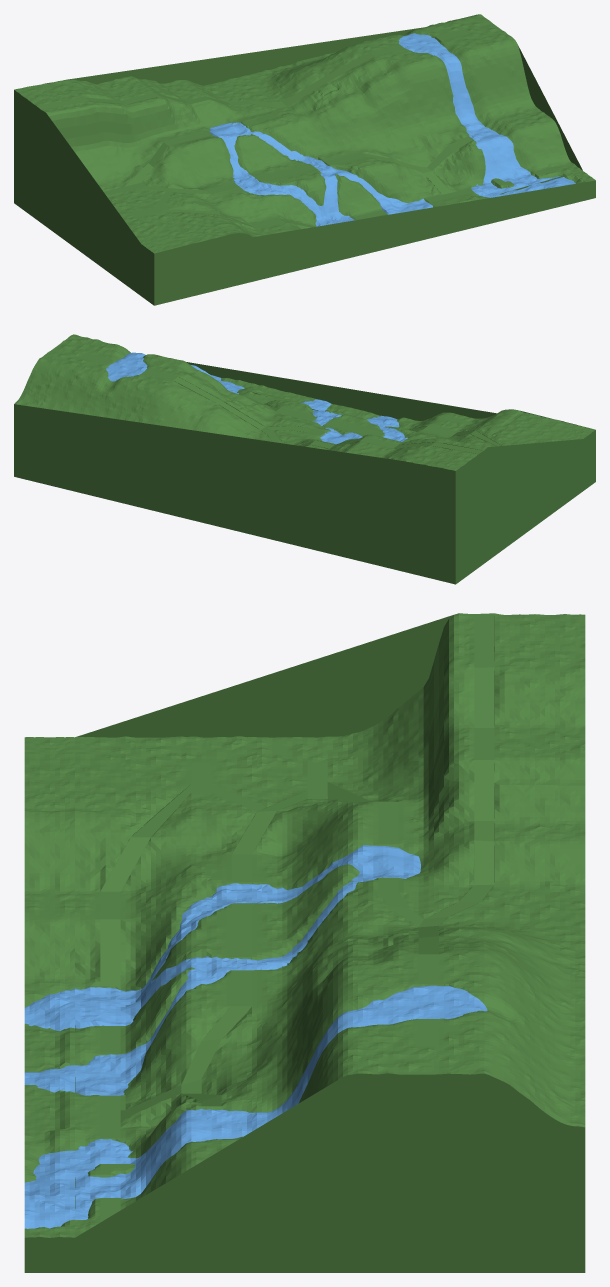
File: 1_Forest_C_바닥수정.fbx
3 renders of one model, top to bottom at view 1: azimuth 30°, elevation 25°; view 2: azimuth 150°, elevation 25°; view 3: azimuth 270°, elevation 25°, orthographic. The views are drawn at different scales.
Parts seen in each view (by area): view 1: Island_D, Sea.015, Sea.017, Sea.018, Sea.011, Sea.009, Sea.016, Sea.019, Sea.013, Sea.001, Sea.010, Sea.002 (+4 smaller); view 2: Island_D, Sea.011; view 3: Island_D, Sea.019, Sea.011, Sea.018, Sea.008, Sea.016, Sea.013, Sea.001, Sea.012, Sea.017, Sea.015, Sea.003 (+5 smaller).
Part boxes in pixels (<box>): Island_D: <box>14,14,595,305</box>; Sea.015: <box>441,56,482,126</box>; Sea.017: <box>478,139,525,182</box>; Sea.018: <box>471,169,560,196</box>; Sea.011: <box>399,33,456,59</box>; Sea.009: <box>320,170,341,216</box>; Sea.016: <box>465,123,510,147</box>; Sea.019: <box>484,177,575,197</box>; Sea.013: <box>380,199,432,214</box>; Sea.001: <box>209,122,251,137</box>; Sea.010: <box>329,169,401,202</box>; Sea.002: <box>245,131,310,161</box>; Island_D: <box>14,334,595,584</box>; Sea.011: <box>106,353,147,381</box>; Island_D: <box>24,613,585,1272</box>; Sea.019: <box>24,1146,80,1228</box>; Sea.011: <box>353,985,487,1027</box>; Sea.018: <box>80,1139,135,1219</box>; Sea.008: <box>75,987,135,1028</box>; Sea.016: <box>181,1108,261,1147</box>; Sea.013: <box>75,1048,135,1095</box>; Sea.001: <box>358,845,420,882</box>; Sea.012: <box>24,988,75,1031</box>; Sea.017: <box>136,1114,181,1196</box>; Sea.015: <box>262,1010,352,1125</box>; Sea.003: <box>216,883,282,910</box>.
Bounding box in the file's own units: 35461 × 64566 × 15937.
